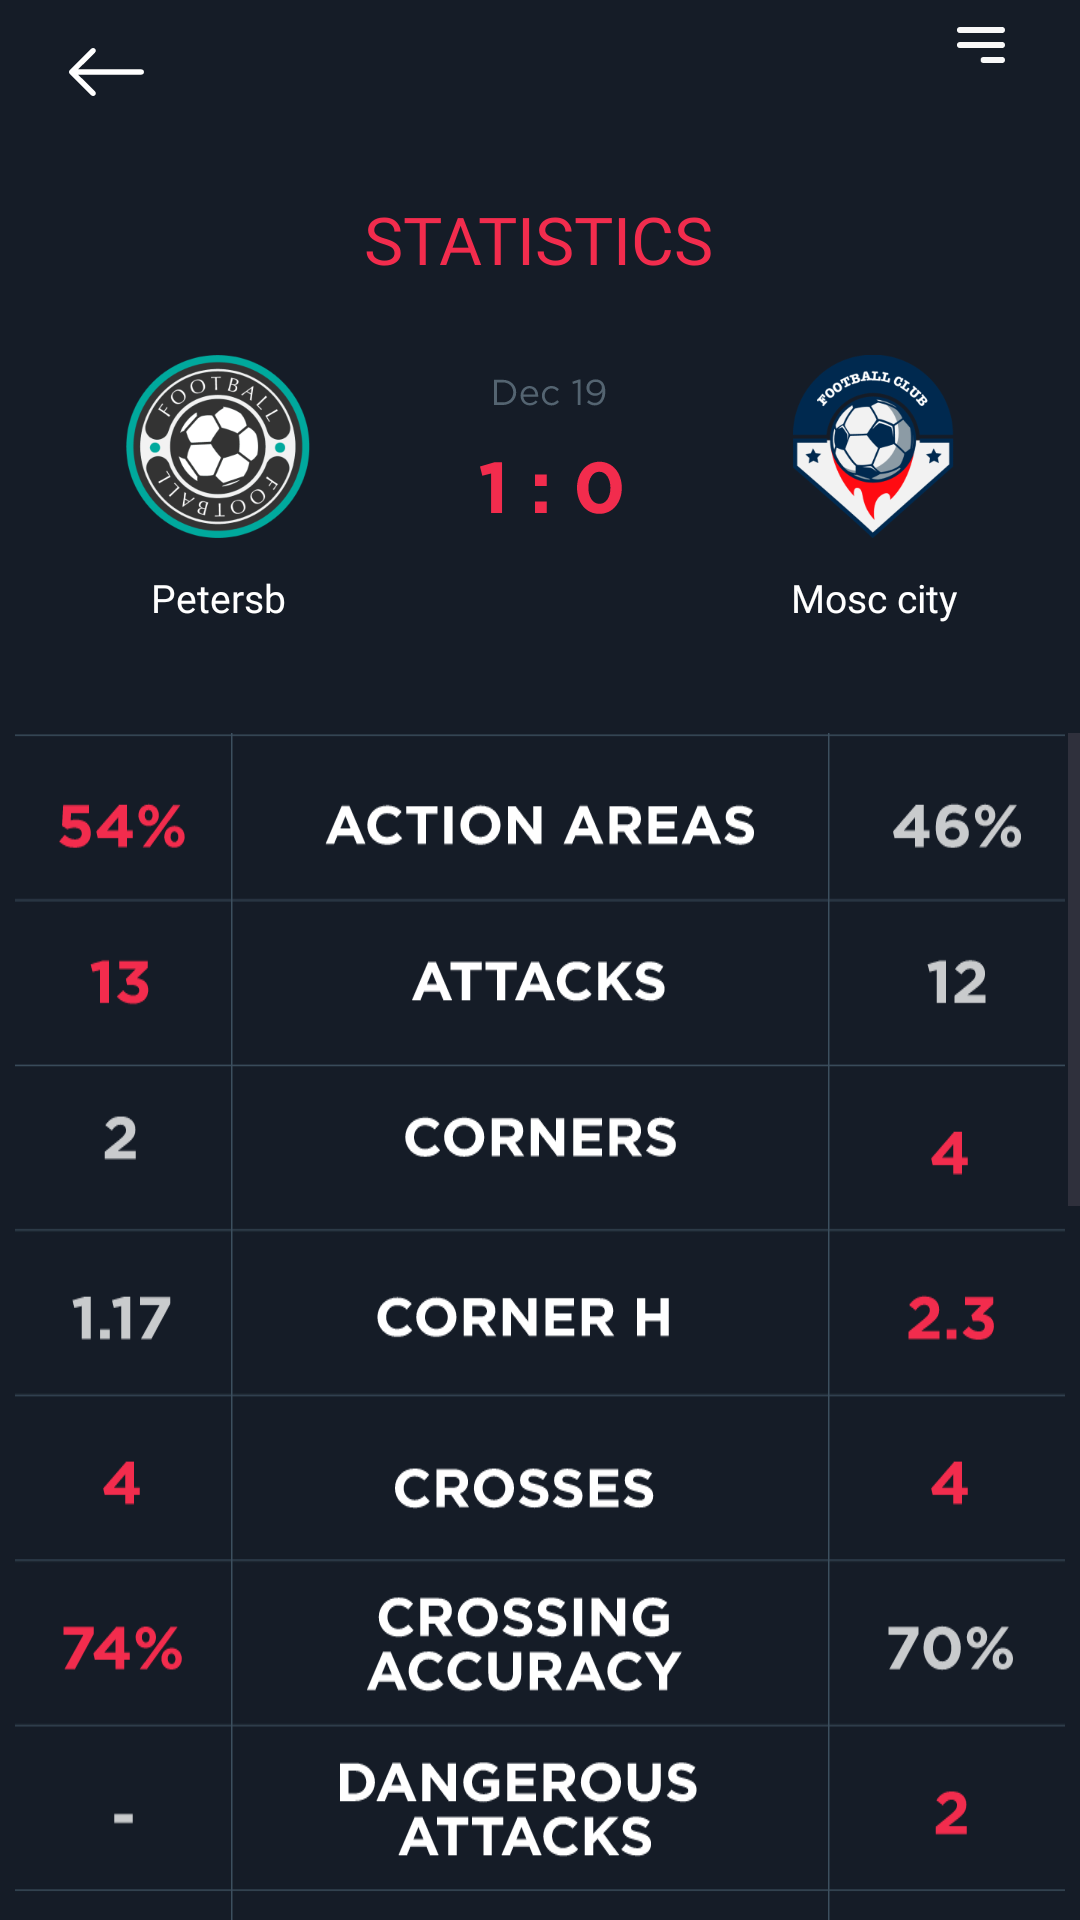

Icon bounding boxes for this 1080w x 1920h phone screenshot, format (x1, y1, x2, y2):
back: (69, 48, 144, 96)
